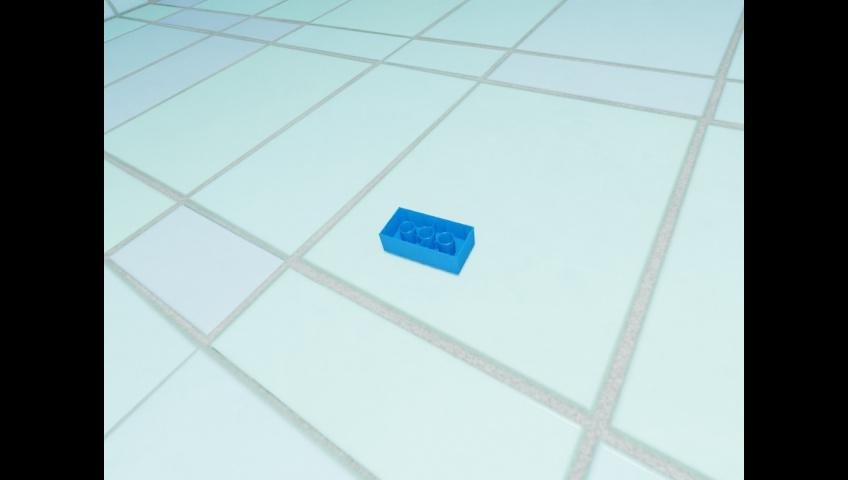4x2_blue: (378, 206, 474, 274)
